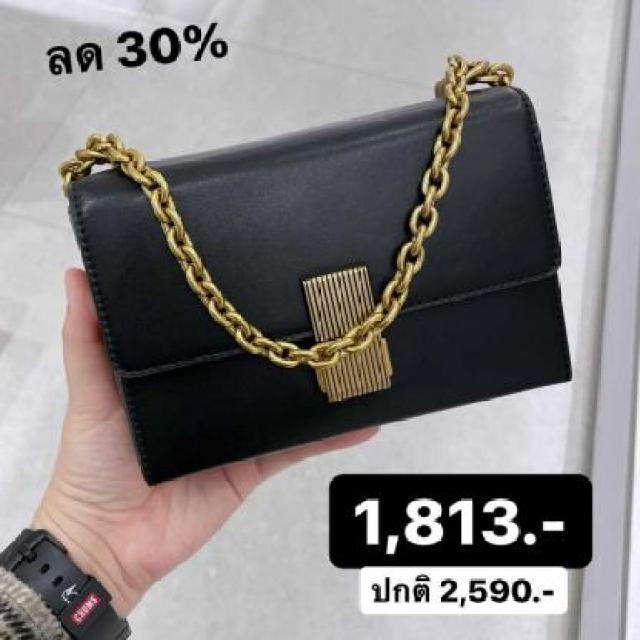Bag: (34, 54, 583, 492)
